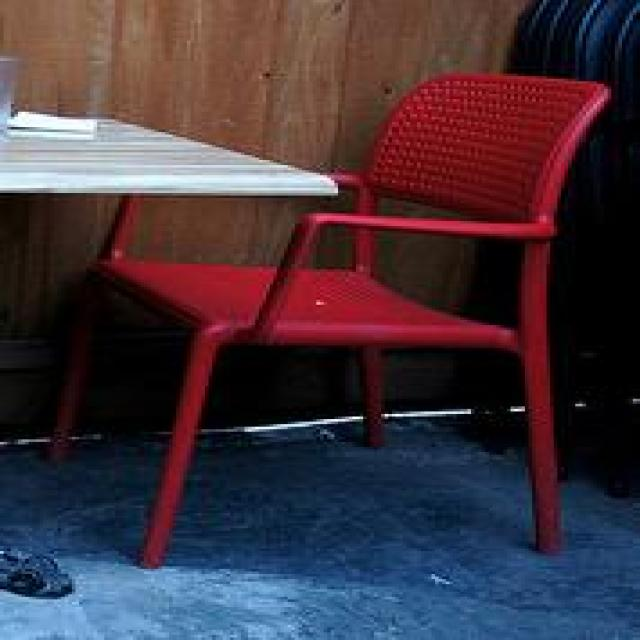chair: (47, 68, 611, 569)
